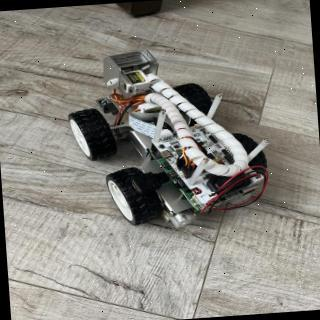vehicle: (64, 39, 277, 242)
